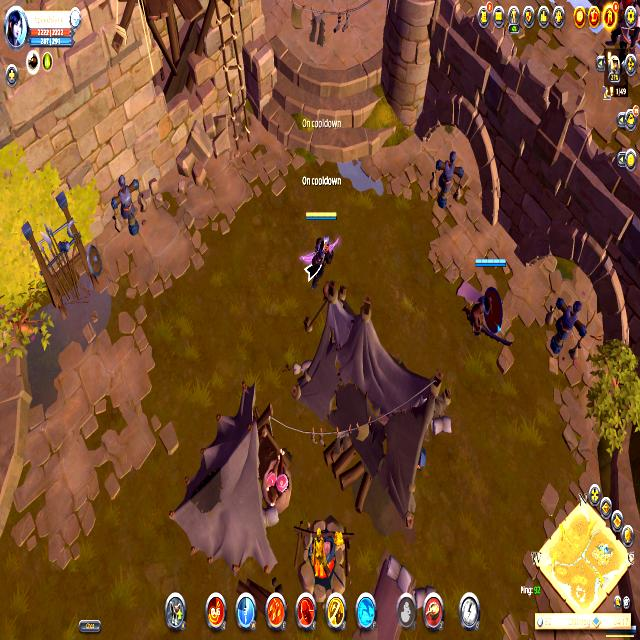red: (457, 249, 517, 348), (299, 206, 341, 290)
